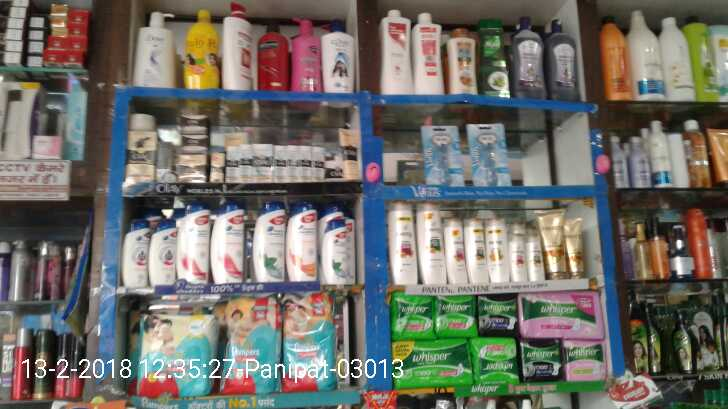gillete: (55, 331, 72, 401), (72, 336, 85, 401)
venus: (469, 123, 507, 187), (422, 128, 462, 186)
